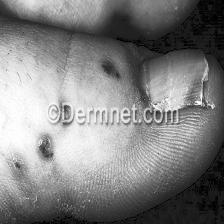Benign Marking or Mole: (36, 135, 58, 159), (102, 59, 122, 84), (11, 157, 26, 174)
